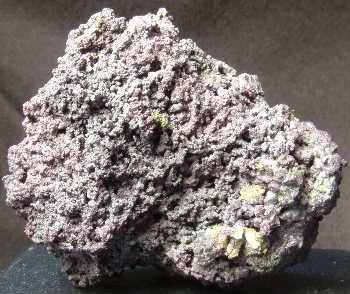cuprite: (241, 148, 327, 207), (225, 230, 268, 260), (153, 113, 169, 128)
